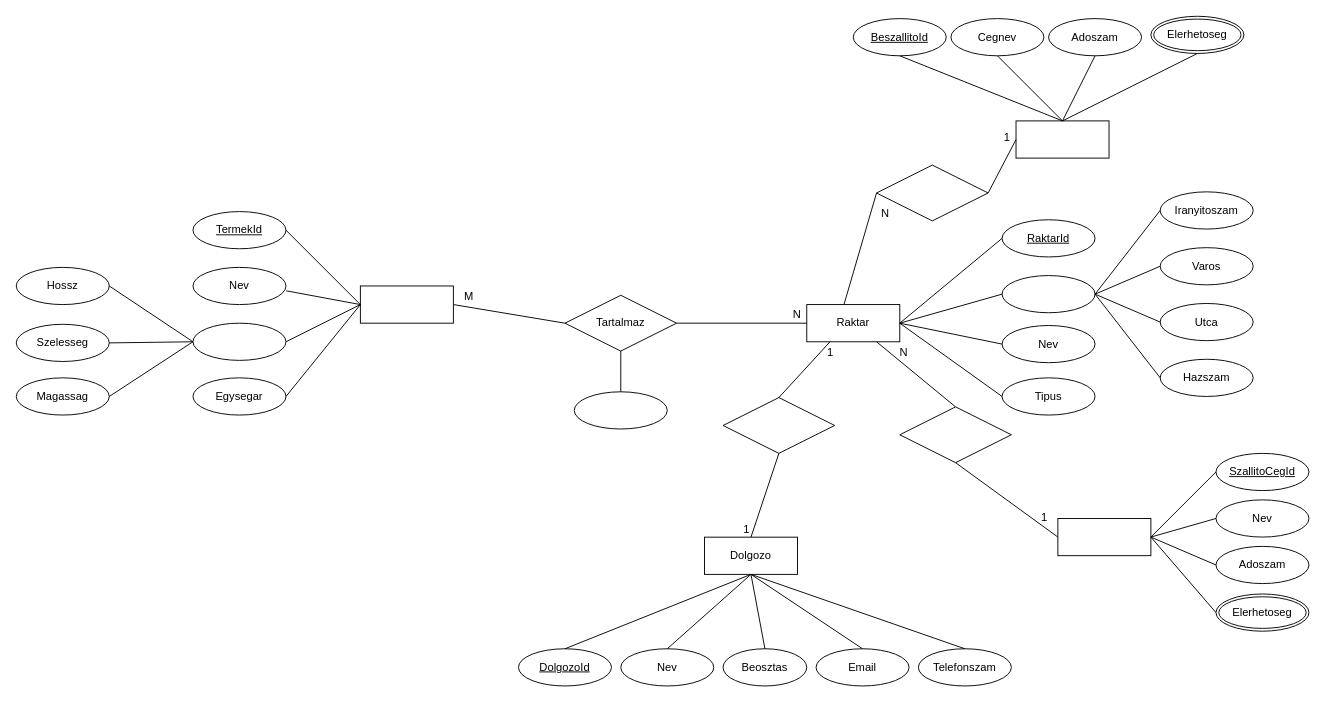
Some shapes in this 1325 by 703 pixel diagram are drawn without their labels. Each missing label, with the centre of its shape:
Beszallito: point (1062, 139)
Beszállít: point (932, 192)
Cim: point (1048, 294)
Iranyit: point (778, 425)
KeszletDb: point (620, 410)
Kiszallit: point (955, 434)
Meret: point (239, 341)
SzallitoCeg: point (1104, 537)
Termek: point (406, 304)
